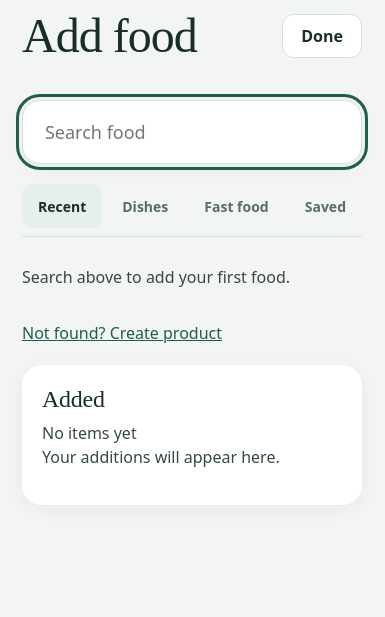
Test: saved additions remain undoable if refreshing their details fails
Click the tab "Saved" at (325, 206), box [289,184,362,228]
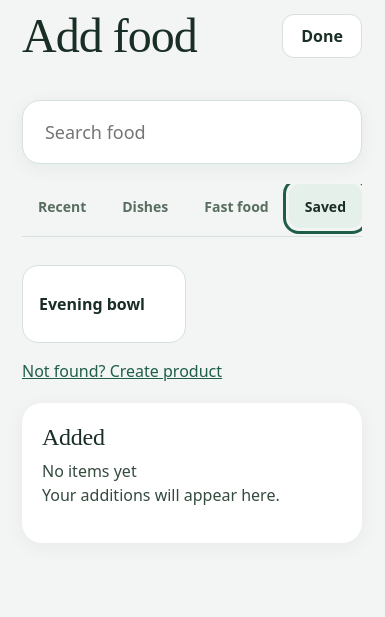
Click the button "Evening bowl" at (104, 304), box [39,282,169,326]
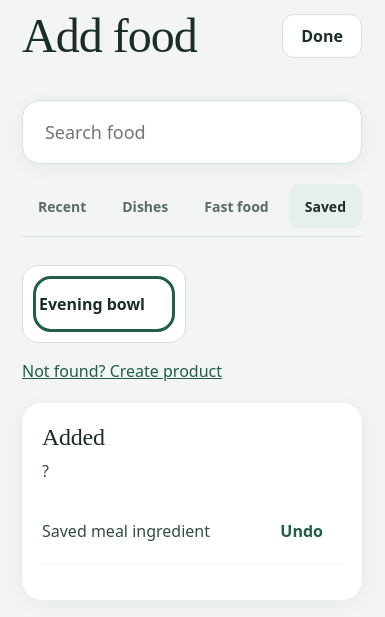
Expected: the button with aria-label "Undo Saved meal ingredient" is shown, [261,509,342,553]
Expected: the text named "Added total" reads "?", [42,460,49,482]
